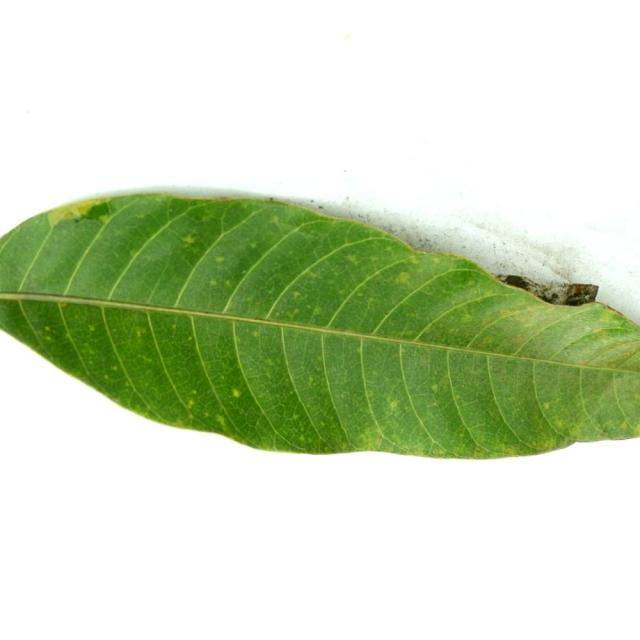Mango: (0, 194, 639, 458)
Powdery_Mildew: (585, 327, 619, 341), (182, 232, 196, 247), (173, 417, 191, 428), (397, 271, 411, 283), (473, 446, 489, 456), (569, 426, 583, 437), (478, 337, 495, 346), (388, 399, 399, 410), (215, 415, 226, 426), (555, 419, 567, 429), (408, 256, 421, 265), (401, 329, 415, 337), (499, 310, 515, 317), (132, 402, 143, 412), (346, 254, 358, 263), (231, 388, 241, 398), (312, 306, 322, 316), (270, 214, 280, 223), (99, 215, 110, 223), (373, 437, 382, 446), (292, 291, 302, 299), (129, 249, 139, 257), (201, 215, 211, 223), (462, 313, 472, 321), (214, 256, 225, 263), (431, 383, 439, 392), (136, 329, 145, 337), (300, 434, 308, 443), (142, 356, 152, 363), (431, 258, 441, 265), (187, 399, 195, 407), (251, 330, 259, 338), (542, 402, 550, 410), (224, 279, 232, 287), (292, 412, 300, 420), (292, 309, 300, 317), (620, 420, 628, 428), (209, 279, 218, 286), (356, 345, 363, 354), (65, 211, 74, 218), (249, 242, 257, 249), (266, 359, 274, 366), (59, 302, 68, 308), (136, 213, 145, 219), (246, 295, 253, 302), (455, 394, 462, 401), (402, 404, 409, 411), (204, 410, 211, 417), (44, 326, 52, 332), (44, 335, 52, 341), (319, 419, 325, 427), (155, 197, 163, 203), (88, 325, 95, 331), (111, 365, 118, 371), (357, 291, 364, 297), (189, 390, 196, 396), (431, 401, 438, 407), (636, 391, 640, 401), (187, 335, 193, 341), (309, 376, 314, 383), (317, 354, 322, 361), (104, 375, 110, 380)
